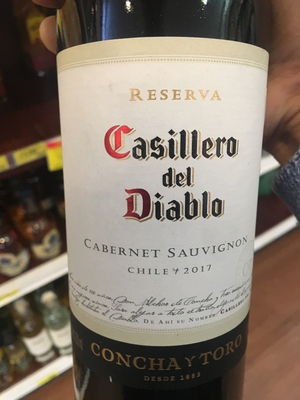casillero del diablo cabernet sauvignon: (53, 3, 273, 400)
